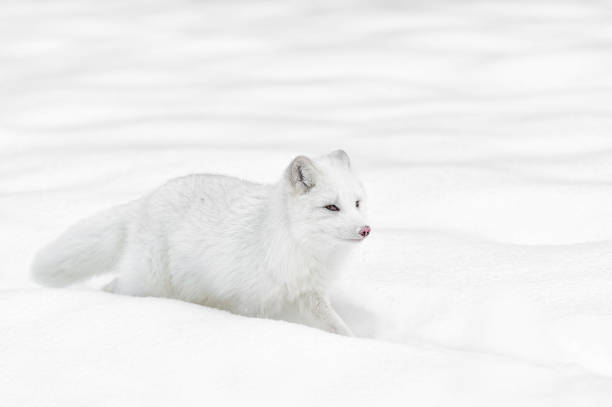arcticfox: (302, 164, 375, 254)
